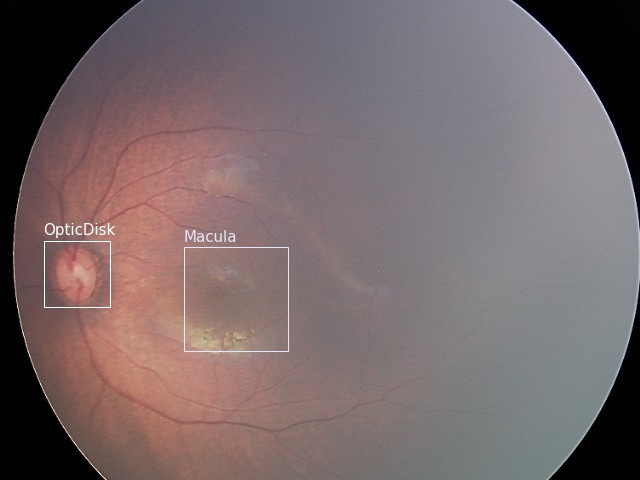Macula: (183, 246, 287, 350)
OpticDisk: (43, 240, 109, 306)
